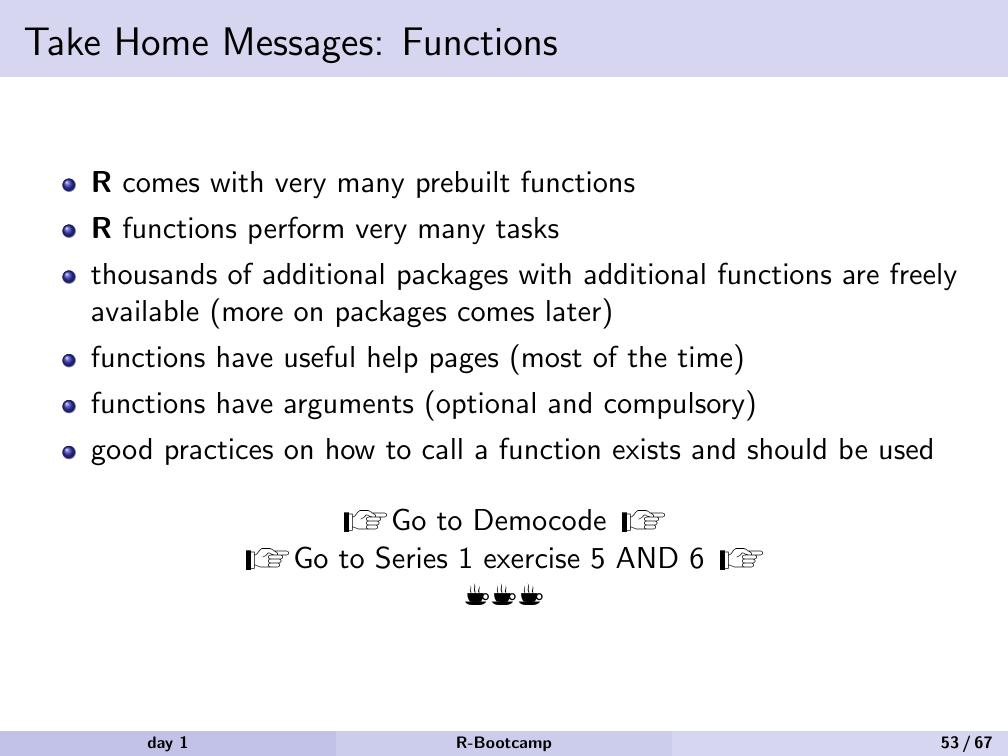Title: (20, 17, 567, 68)
